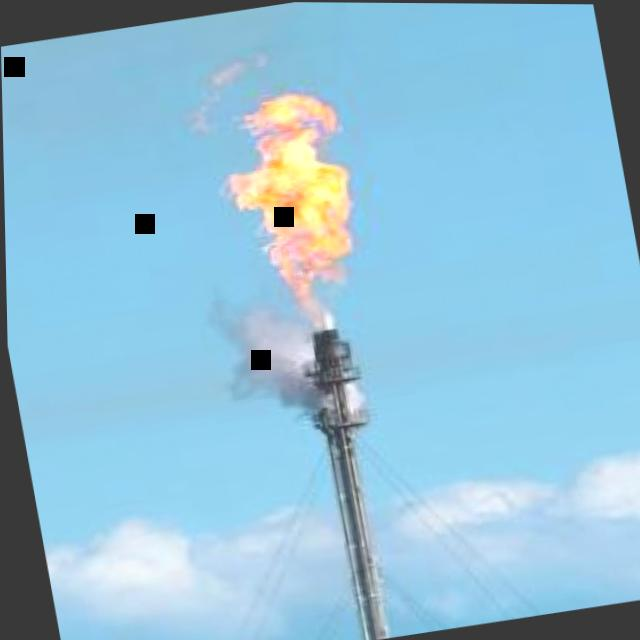fire: (211, 89, 352, 323), (195, 93, 216, 136), (248, 53, 270, 78), (209, 62, 239, 79)
smoke: (199, 289, 331, 422), (346, 384, 367, 407)
